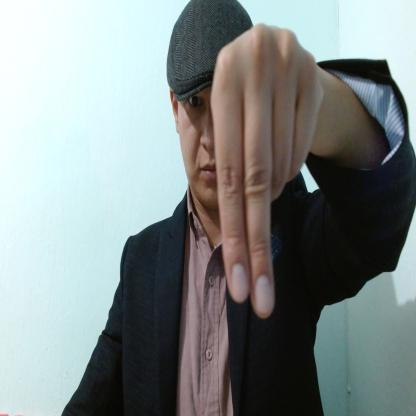N: (212, 21, 326, 318)
